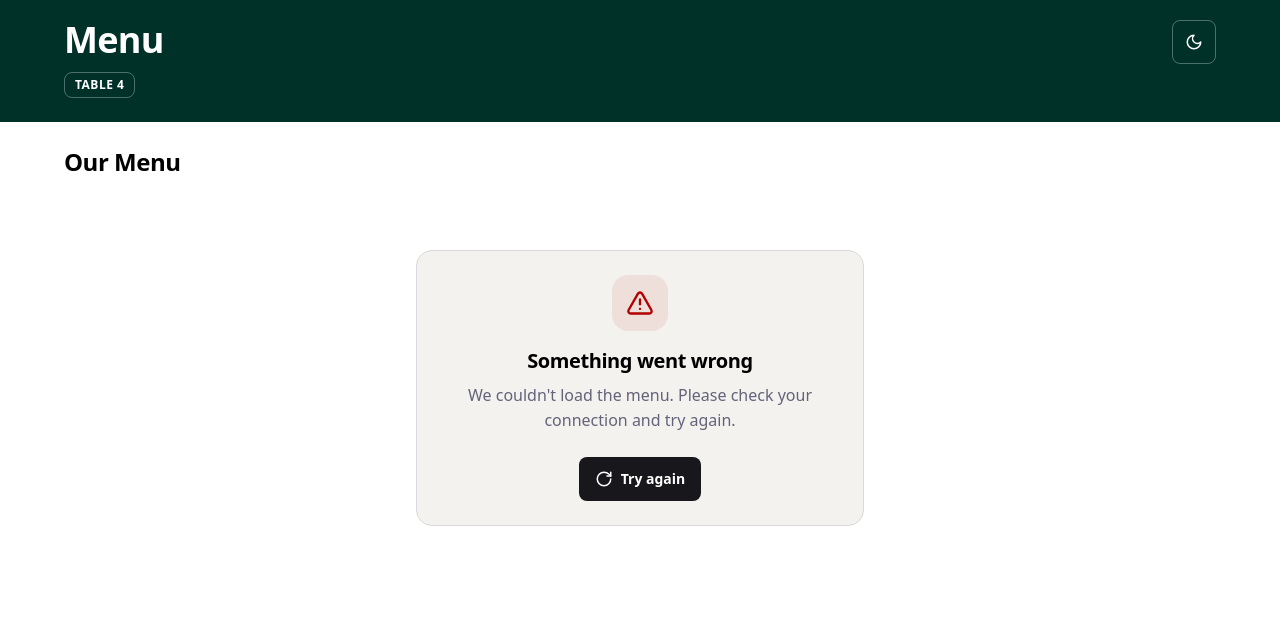
Test: customer table page states › offers Try again after a server error, and loads the menu when it works
The image size is (1280, 627).
Expected: the heading "Something went wrong" is shown, [527, 347, 753, 374]
Click the button "Try again". click: (640, 479)
box: [579, 457, 701, 501]
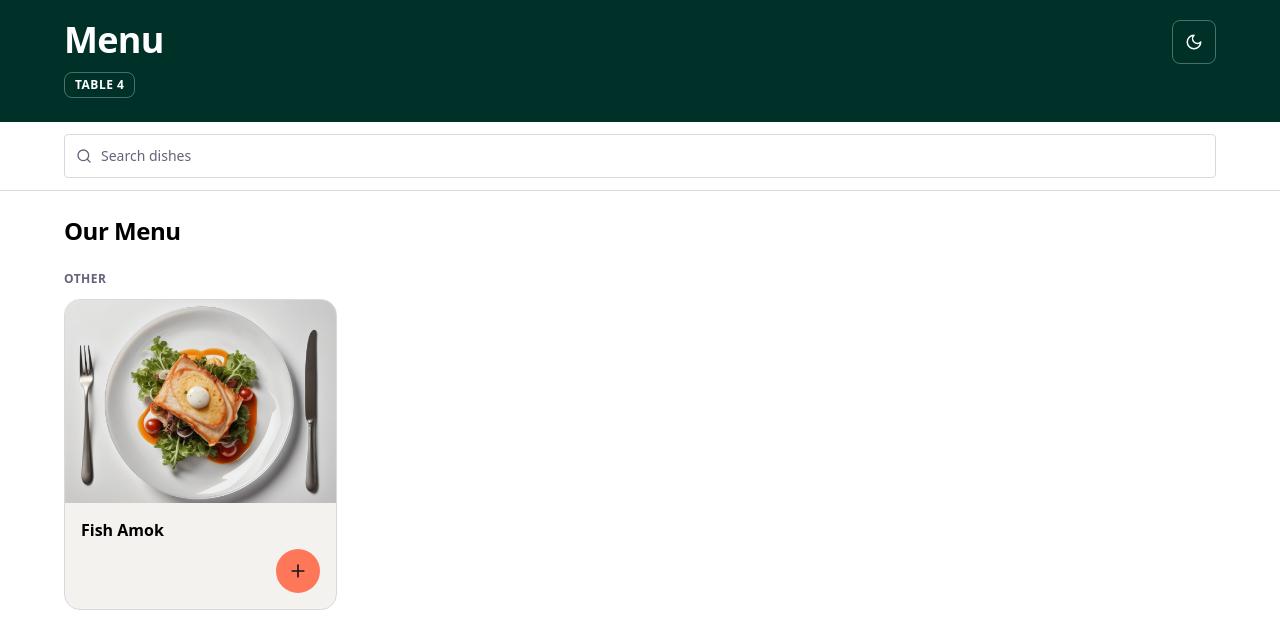
Now the heading "Fish Amok" is shown, box [81, 519, 164, 541]
